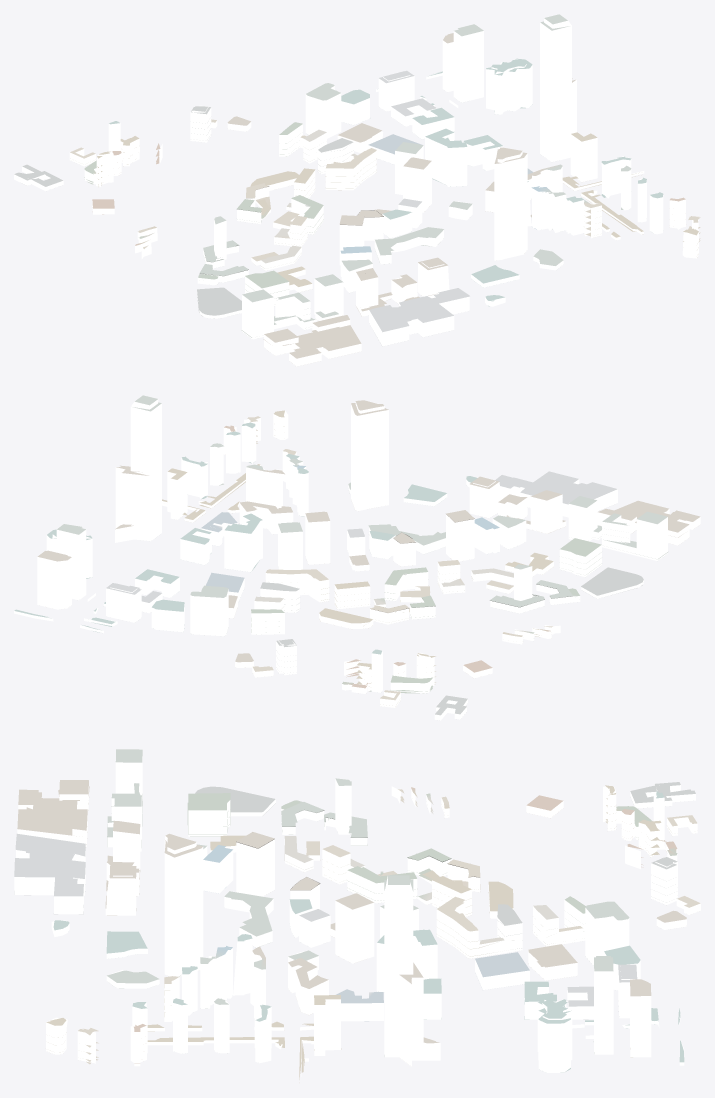
File: buildings--9_-1-coarse.glb
3 renders of one model, top to bottom at view 1: azimuth 30°, elevation 25°; view 2: azimuth 150°, elevation 25°; view 3: azimuth 270°, elevation 25°, orthographic. The views are drawn at different scales.
Visible parts, largest first — view 1: block_-9_-1_office, block_-9_-1_roof, block_-9_-1_residential; view 2: block_-9_-1_office, block_-9_-1_roof, block_-9_-1_residential; view 3: block_-9_-1_office, block_-9_-1_roof, block_-9_-1_residential.
Boxes of the visible parts, <box> form: block_-9_-1_office: <box>108,18,663,366</box>; block_-9_-1_roof: <box>14,14,700,363</box>; block_-9_-1_residential: <box>14,71,698,339</box>; block_-9_-1_office: <box>37,399,700,692</box>; block_-9_-1_roof: <box>14,395,700,715</box>; block_-9_-1_residential: <box>14,411,667,720</box>; block_-9_-1_office: <box>14,756,686,1072</box>; block_-9_-1_roof: <box>14,749,700,1082</box>; block_-9_-1_residential: <box>46,784,700,1076</box>.
Bounding box in the file's own units: 699 × 192 × 690.
